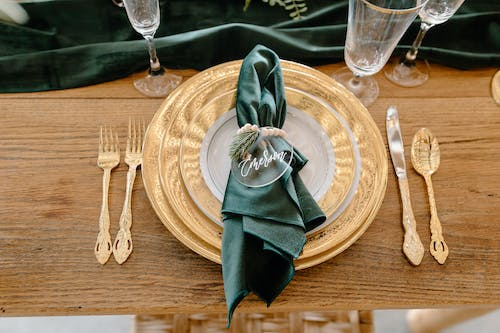knife: (385, 104, 426, 268)
